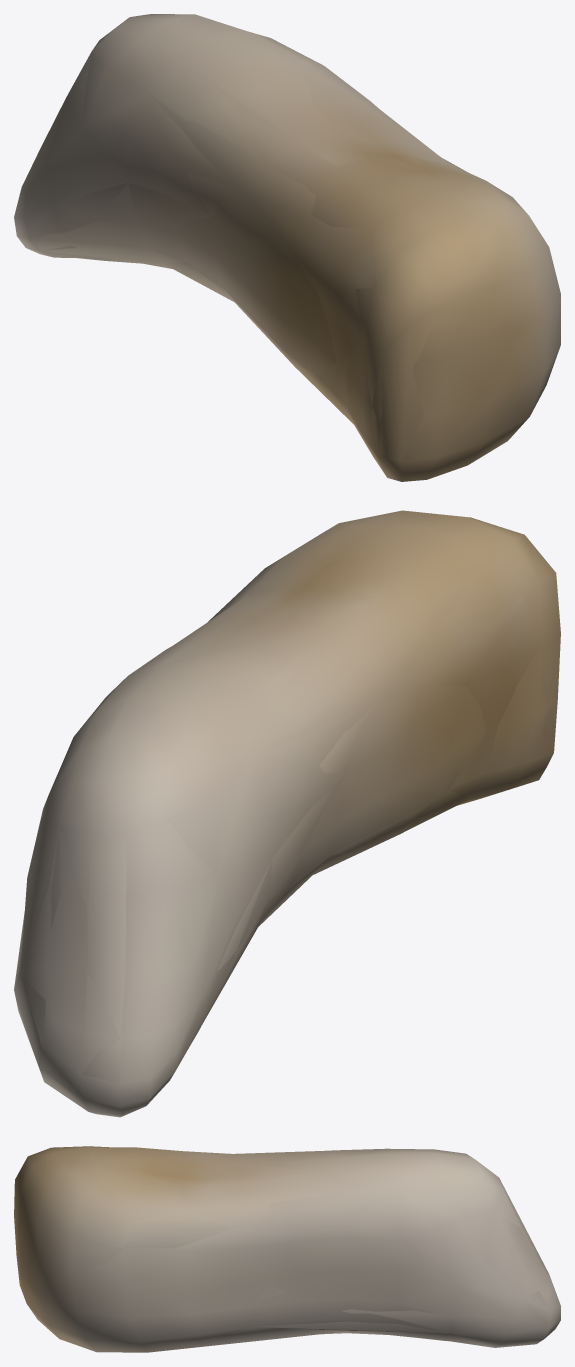
The model's file is R carpi accessorium.fbx.
3 views of the same model, one above another, from view 1: azimuth 30°, elevation 25°; view 2: azimuth 150°, elevation 25°; view 3: azimuth 270°, elevation 25° (orthographic). The views are drawn at different scales.
Parts seen in each view (by area): view 1: R carpi accessorium, R carpi accessorium low; view 2: R carpi accessorium, R carpi accessorium low; view 3: R carpi accessorium, R carpi accessorium low.
Boxes of the visible parts, box(x1,y1,x2,y2) form: R carpi accessorium: box(14, 14, 560, 481); R carpi accessorium low: box(15, 16, 559, 481); R carpi accessorium: box(14, 510, 560, 1117); R carpi accessorium low: box(15, 514, 560, 1115); R carpi accessorium: box(14, 1146, 560, 1352); R carpi accessorium low: box(16, 1147, 558, 1352).
Size of the model in its own units: 0.815 by 0.9496 by 2.43.
